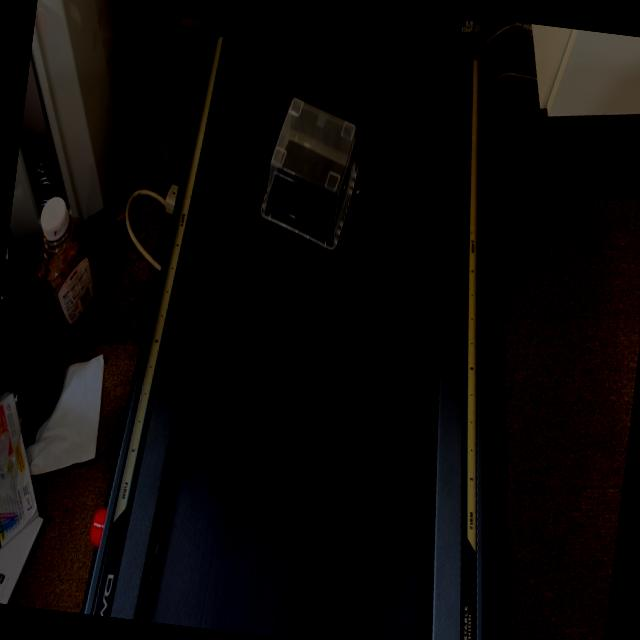Recycle: (252, 88, 368, 256)
